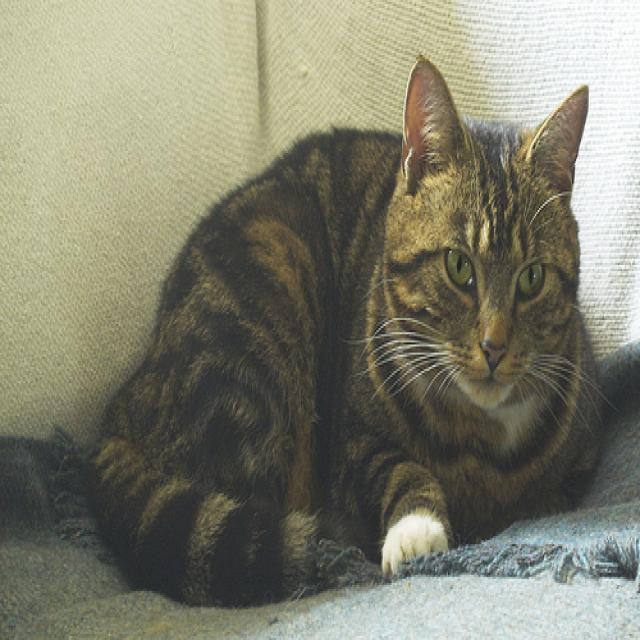left eye: (514, 256, 546, 300)
